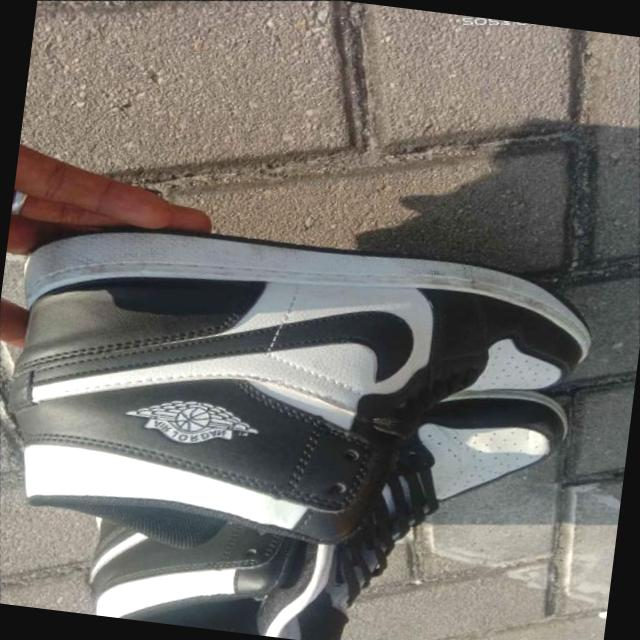nike_fake_jordan: (0, 159, 637, 624), (55, 328, 606, 640)
